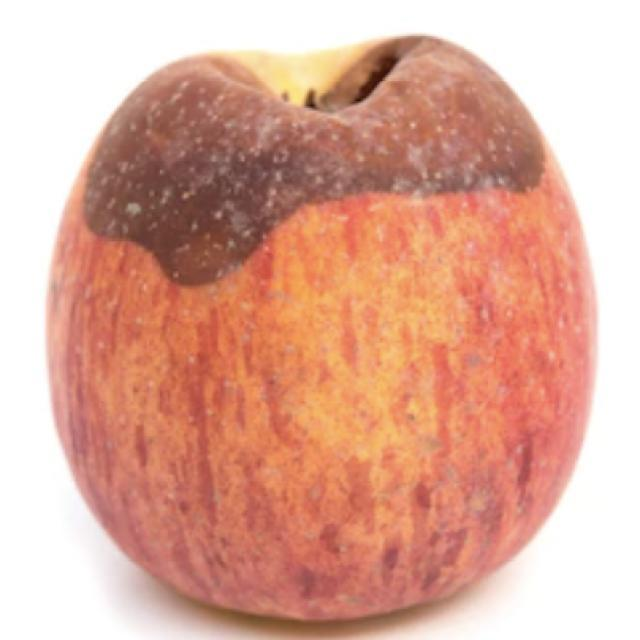Rotten: (57, 43, 610, 580)
